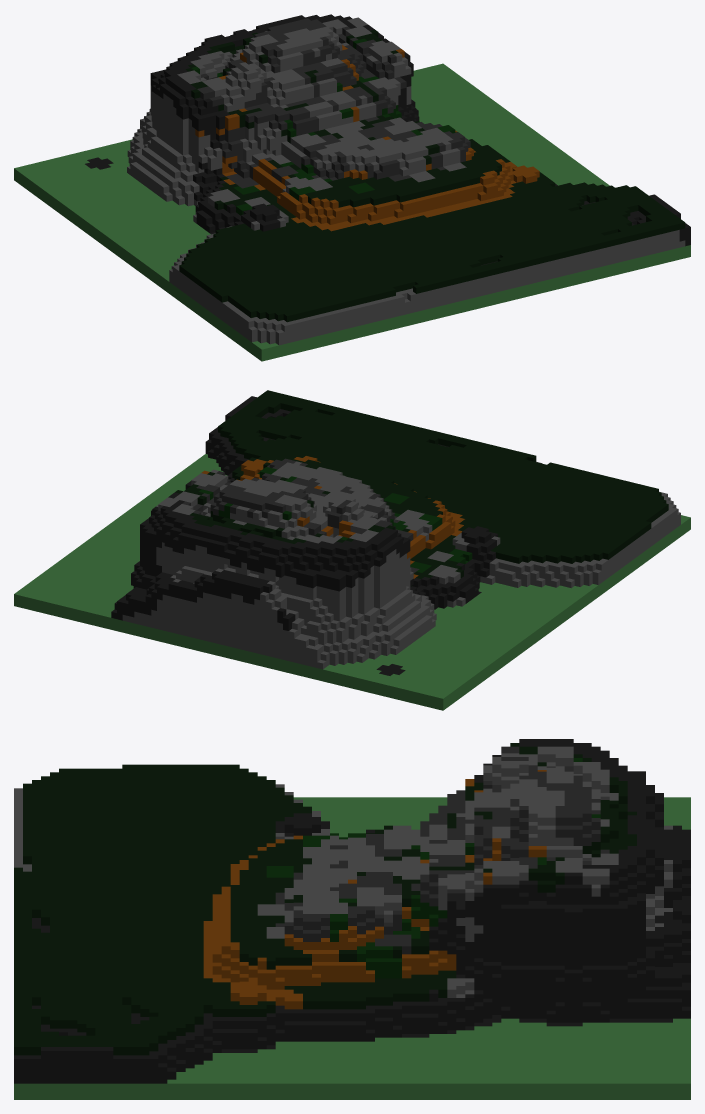
Rendered from Main__Menu_Plateau 1.obj.
3 renders of one model, top to bottom at view 1: azimuth 30°, elevation 25°; view 2: azimuth 150°, elevation 25°; view 3: azimuth 270°, elevation 25°, orthographic. The views are drawn at different scales.
Size of the model in its own units: 7.5 by 2.1 by 7.5.
Materials: 1 (1 with a texture image).
